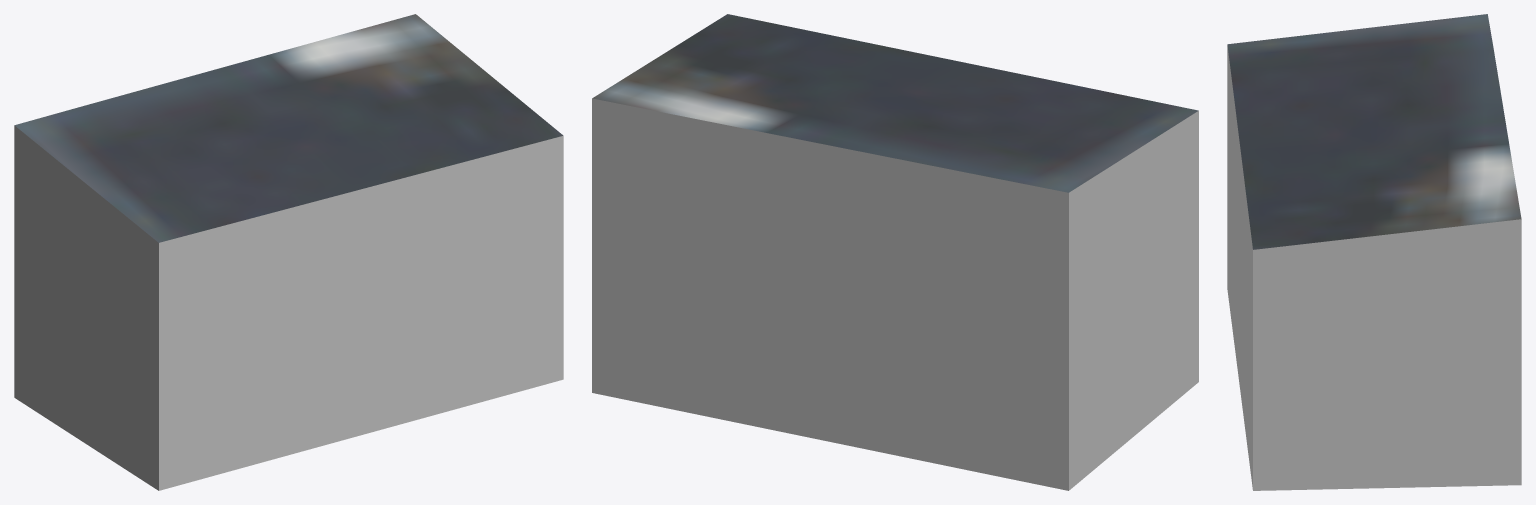
Rendered from DEBW_0010007Tx9z.gltf.
3 views of the same model, side by side, from view 1: azimuth 30°, elevation 25°; view 2: azimuth 150°, elevation 25°; view 3: azimuth 270°, elevation 25° (orthographic). The views are drawn at different scales.
Visible parts, largest first — view 1: Z_UP; view 2: Z_UP; view 3: Z_UP.
Part boxes in pixels (box(x1,y1,x2,y2)): Z_UP: box(14, 14, 563, 490); Z_UP: box(592, 14, 1198, 490); Z_UP: box(1227, 14, 1521, 490).
Size of the model in its own units: 5.38 by 3.25 by 3.22.
Materials: 2 (1 with a texture image).
